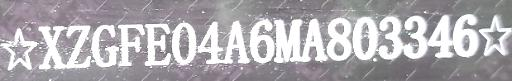letter: (34, 23, 68, 70), (89, 20, 119, 69), (142, 20, 172, 69), (273, 17, 303, 64), (221, 19, 251, 66), (116, 22, 146, 69), (426, 12, 454, 59), (325, 16, 353, 63), (300, 17, 328, 64), (248, 18, 276, 65), (64, 23, 92, 70), (450, 15, 480, 58), (350, 15, 378, 60), (402, 12, 428, 59), (377, 14, 403, 61), (170, 21, 198, 64), (197, 20, 223, 65)
